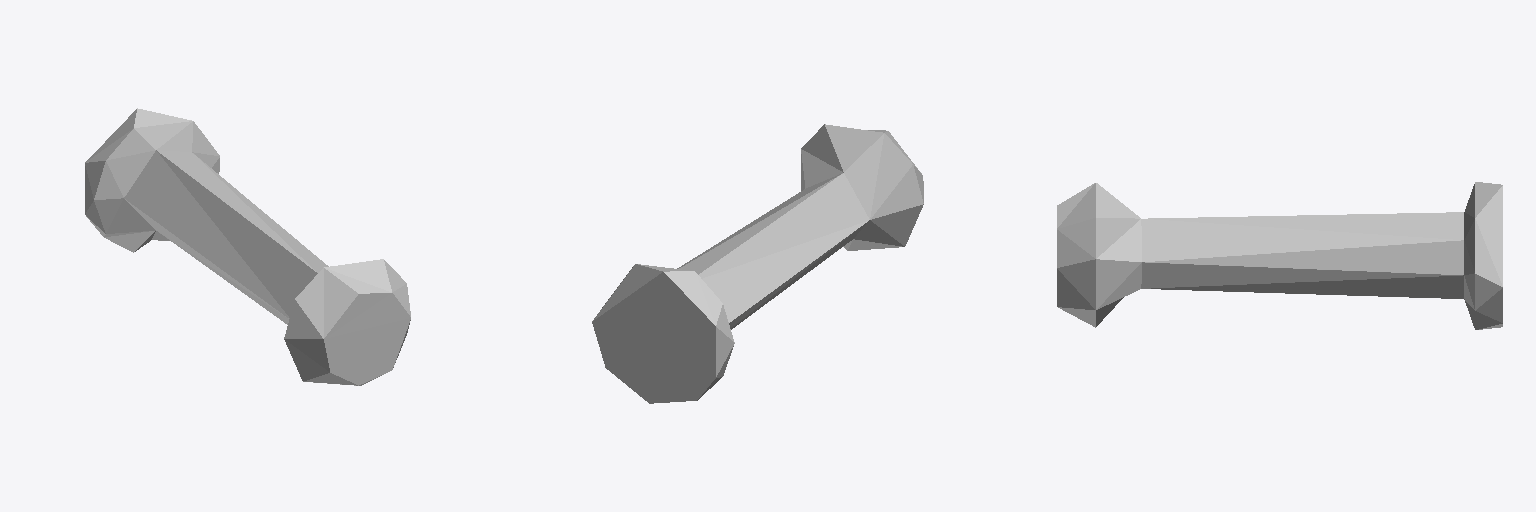
The model's file is handle.obj.
The picture shows the model from 3 angles: view 1: azimuth 30°, elevation 25°; view 2: azimuth 150°, elevation 25°; view 3: azimuth 270°, elevation 25°; orthographic projection.
Parts seen in each view (by area): view 1: Cylinder; view 2: Cylinder; view 3: Cylinder.
Boxes of the visible parts, box(x1,y1,x2,y2) form: Cylinder: box(85, 108, 410, 385); Cylinder: box(592, 124, 923, 403); Cylinder: box(1057, 182, 1502, 329).
Size of the model in its own units: 0.03 by 0.0301 by 0.0899.